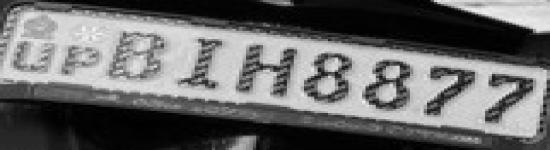7: (417, 62, 477, 122), (478, 68, 539, 127)
8: (356, 51, 416, 114), (301, 47, 354, 105)
B: (108, 29, 169, 85)
H: (234, 39, 302, 100)
I: (172, 35, 229, 93)
P: (57, 43, 104, 77)
U: (11, 40, 56, 74)
